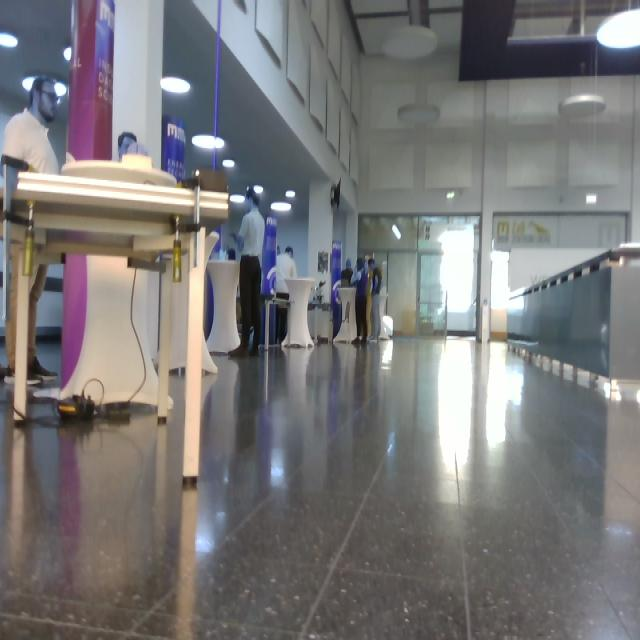door: (358, 213, 481, 340), (418, 252, 447, 336)
light bulb: (381, 25, 438, 61), (596, 9, 640, 50), (559, 93, 606, 118), (22, 75, 68, 99), (398, 104, 440, 126), (192, 135, 225, 151), (160, 77, 191, 94), (1, 32, 19, 49), (22, 76, 36, 92), (271, 202, 292, 212), (54, 81, 67, 97), (392, 224, 402, 240), (230, 194, 245, 204), (64, 45, 72, 61), (223, 158, 235, 168), (254, 185, 264, 194), (286, 191, 296, 199)
person: (1, 76, 63, 386), (228, 188, 266, 358), (275, 247, 297, 347), (351, 258, 370, 344)
tiled floor: (1, 332, 639, 638)
